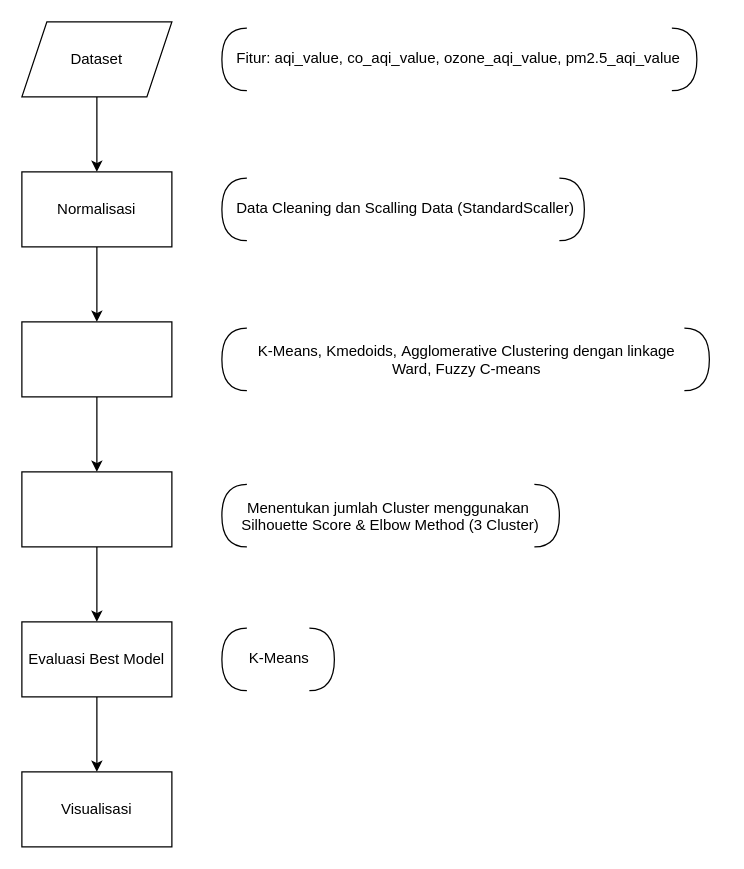
The diagram is 744 pixels wide and 869 high, and some of its shapes have lost their labels. The centre of each missing label's shape, as x and y in pixels:
"Algoritma Machine Learning" goes at point 96,359.
"Cluster Validation" goes at point 96,509.
